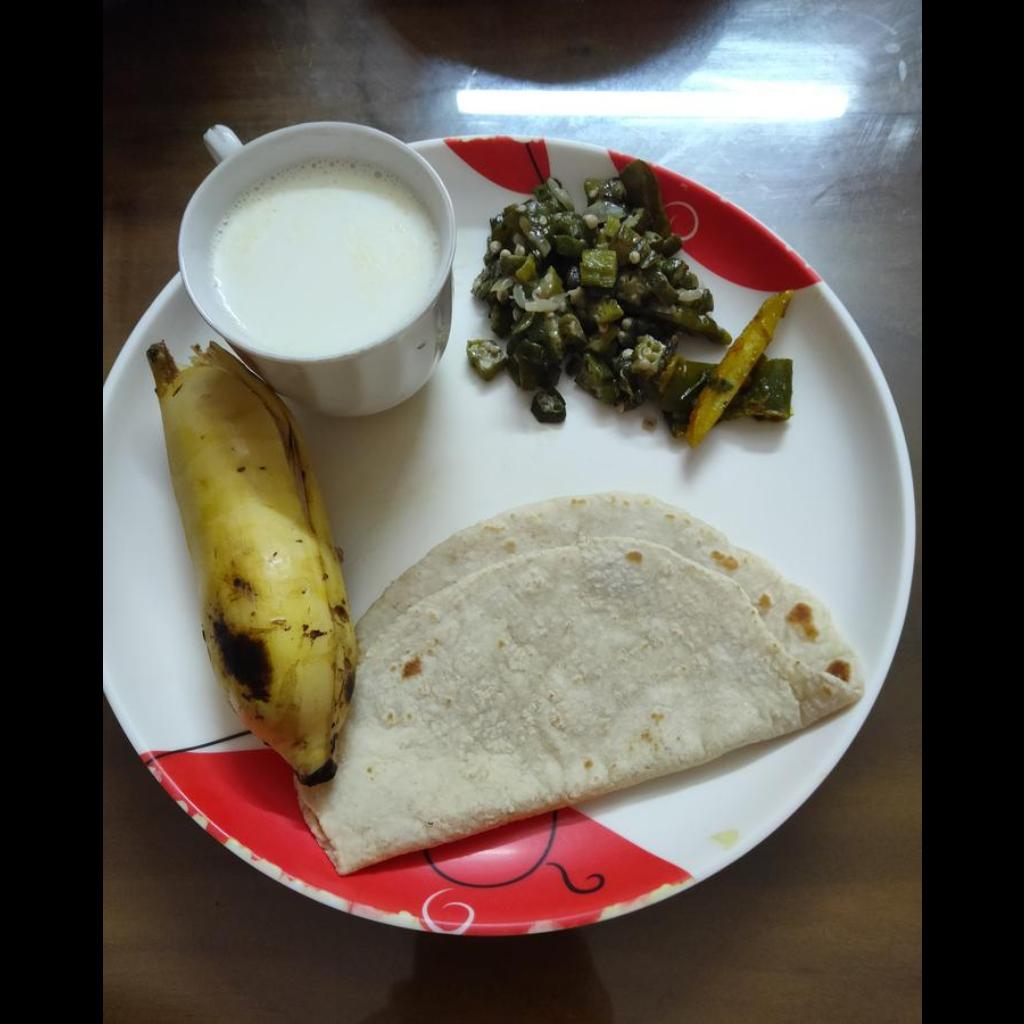banana: (146, 340, 349, 775)
milk: (209, 164, 439, 354)
okra: (465, 177, 736, 430)
ruti: (295, 494, 869, 877)
